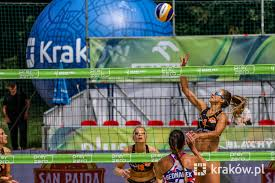ball: (154, 2, 175, 22)
